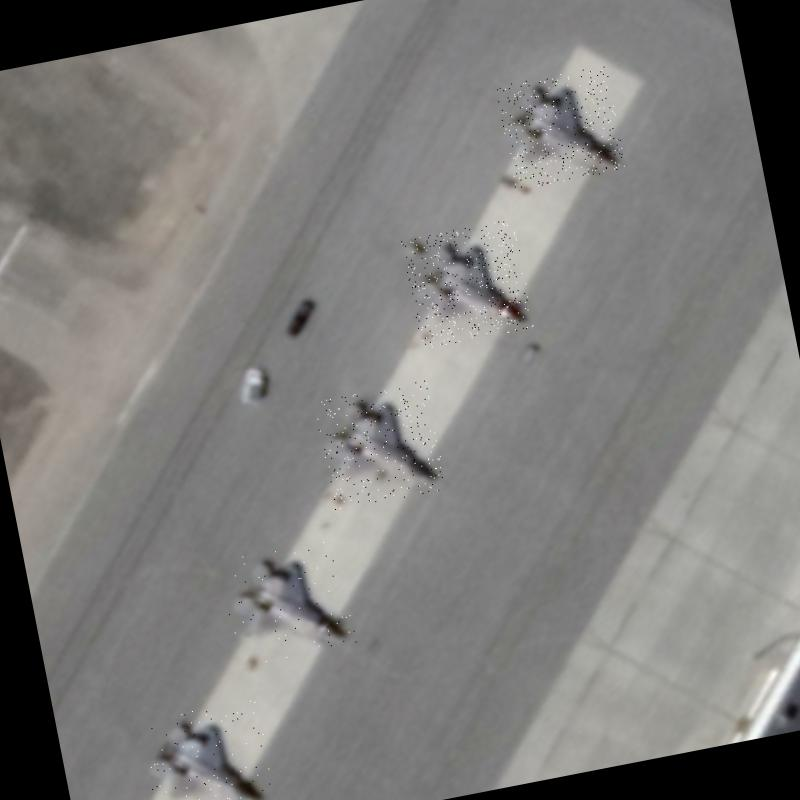A15: (217, 534, 360, 668), (400, 218, 534, 349), (313, 380, 447, 511), (495, 64, 626, 190), (137, 697, 277, 800)
